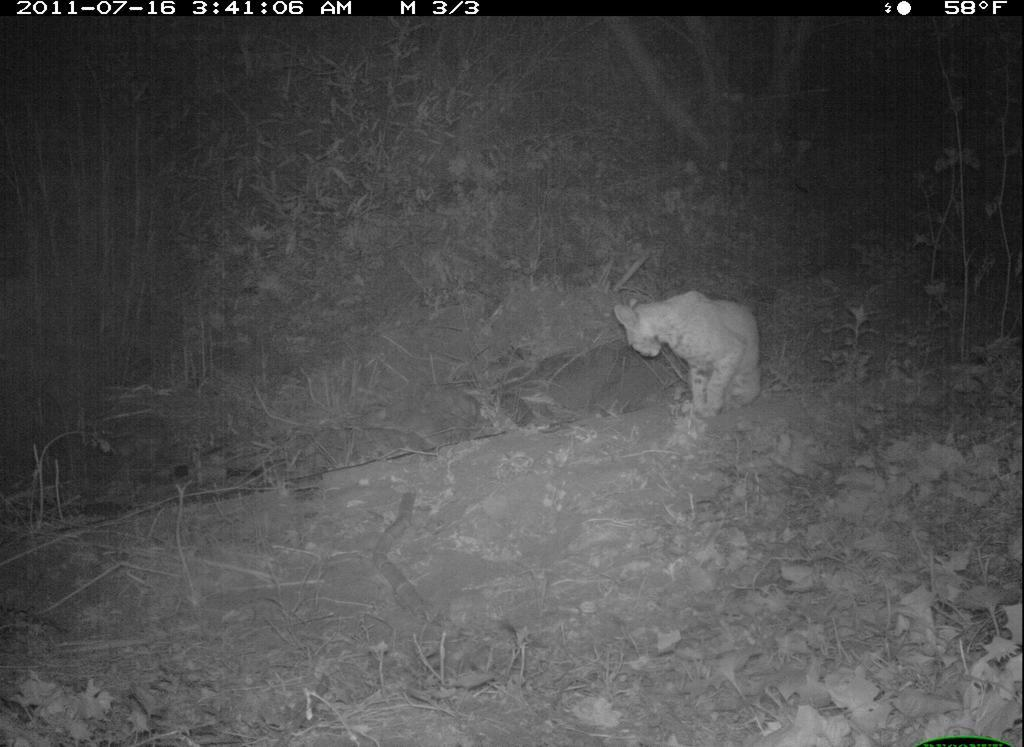bobcat: (611, 276, 777, 445)
